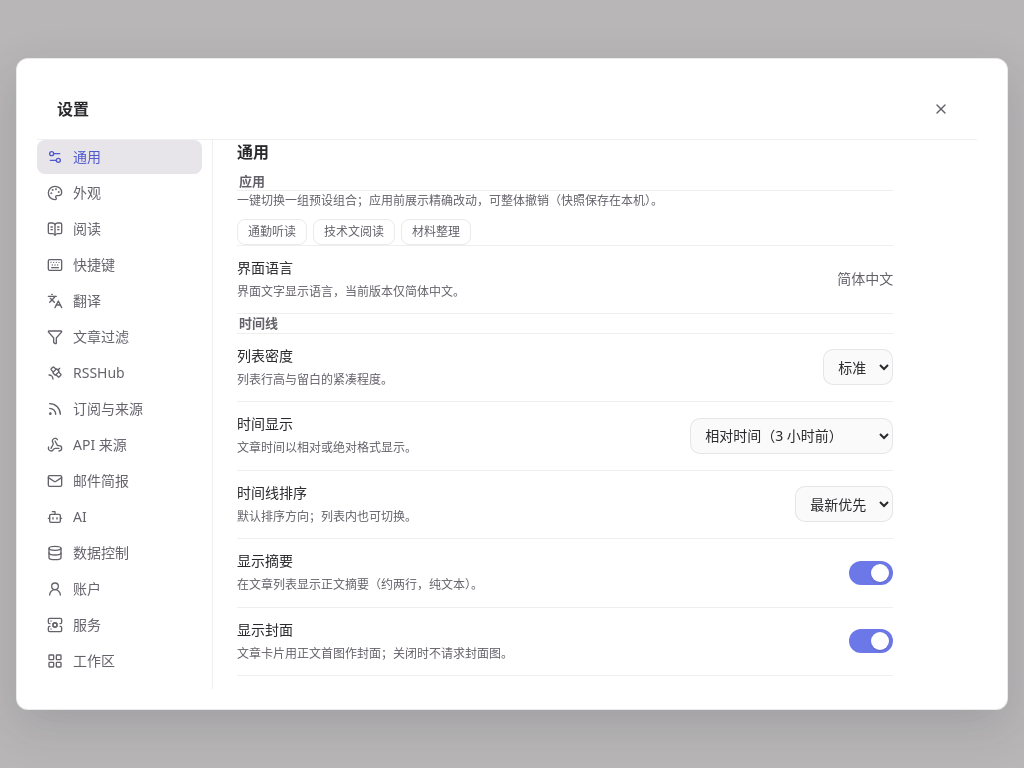
Scenario: 快捷键速查表页（AC7） › 渲染全部基础快捷键（与 SHORTCUTS 同源）
The width and height of the screenshot is (1024, 768).
Click the button "快捷键".
click(120, 265)  # box [37,248,202,282]
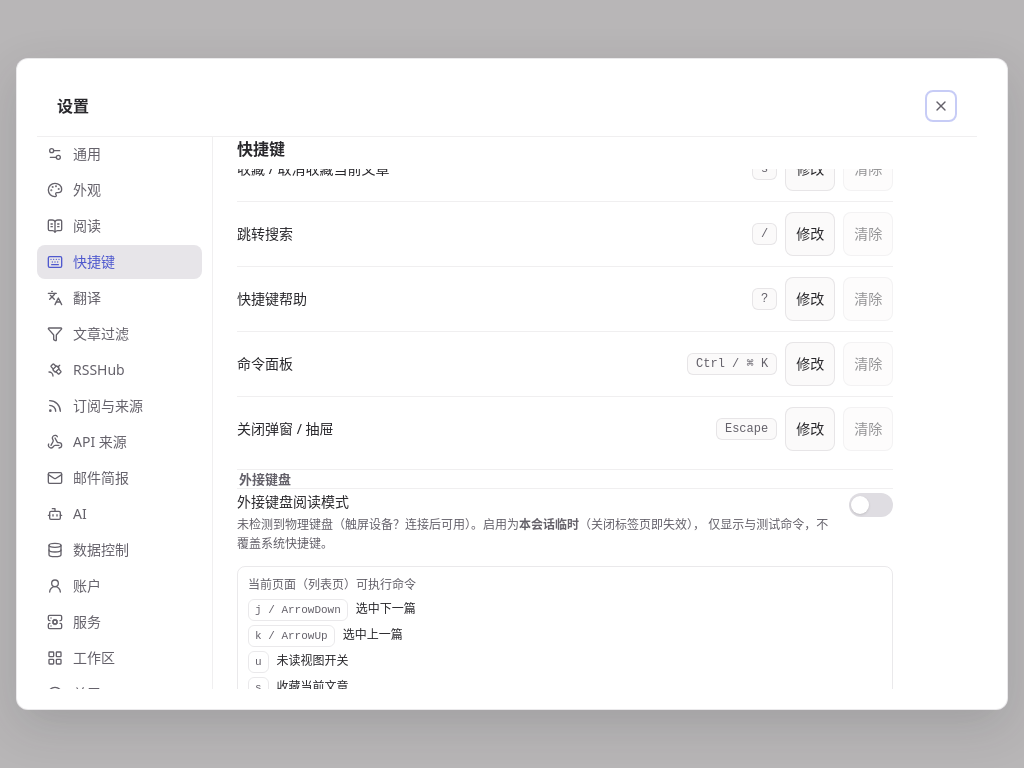
Now the text "跳转搜索" is shown, box [237,224,293,244]
Now the text "快捷键帮助" is shown, box [237,289,307,309]
Now the text "命令面板" is shown, box [237,354,293,374]
